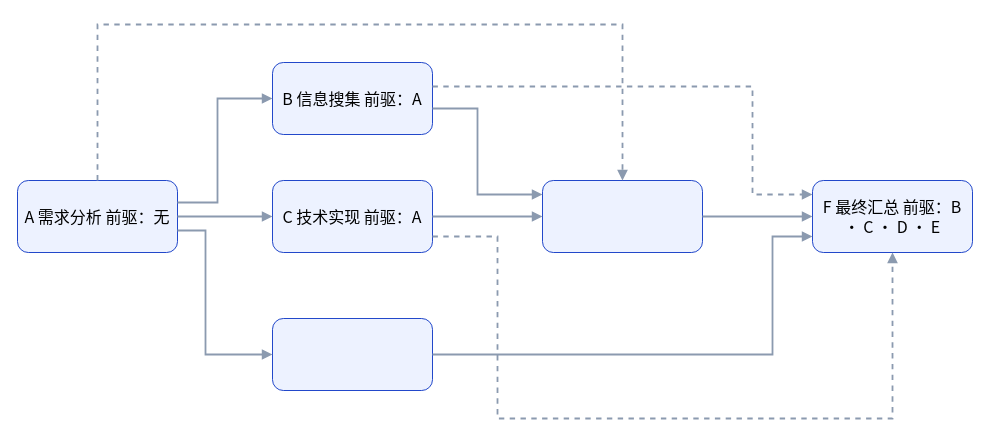
This 990x445 diagram has some shape labels left out. The shapes that lost their labels are listed below. From the top down, each one's centre as x and y in pixels, then its label:
At [622,216]: "E 逻辑分析 前驱：A · B · C".
At [352,354]: "D 方案生成 前驱：A".
